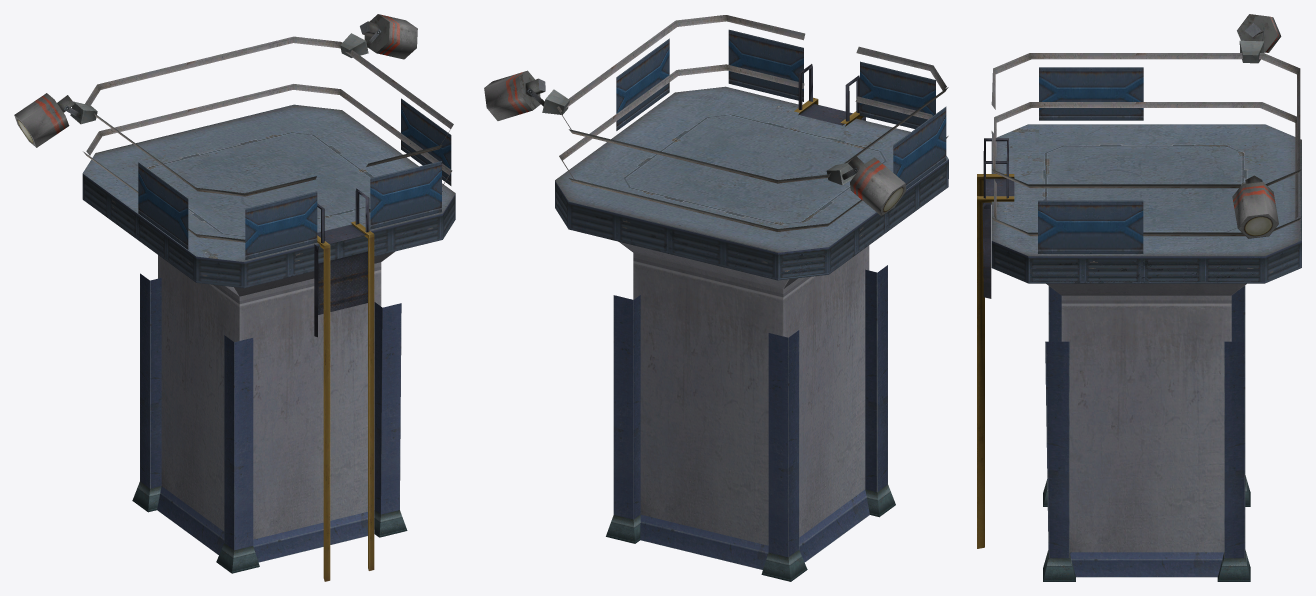
The model's file is Prop_Lwt01_lod2.glb.
The picture shows the model from 3 angles, left to right: view 1: azimuth 30°, elevation 25°; view 2: azimuth 150°, elevation 25°; view 3: azimuth 270°, elevation 25°; orthographic projection. The views are drawn at different scales.
Parts seen in each view (by area): view 1: xiutz_lwt01_lod2_0; view 2: xiutz_lwt01_lod2_0; view 3: xiutz_lwt01_lod2_0.
Boxes of the visible parts, <box> form: xiutz_lwt01_lod2_0: <box>14,14,455,581</box>; xiutz_lwt01_lod2_0: <box>484,15,948,581</box>; xiutz_lwt01_lod2_0: <box>977,14,1301,581</box>.
Bounding box in the file's own units: 7.94 × 8.11 × 5.44.
Materials: 2 (2 with a texture image).
